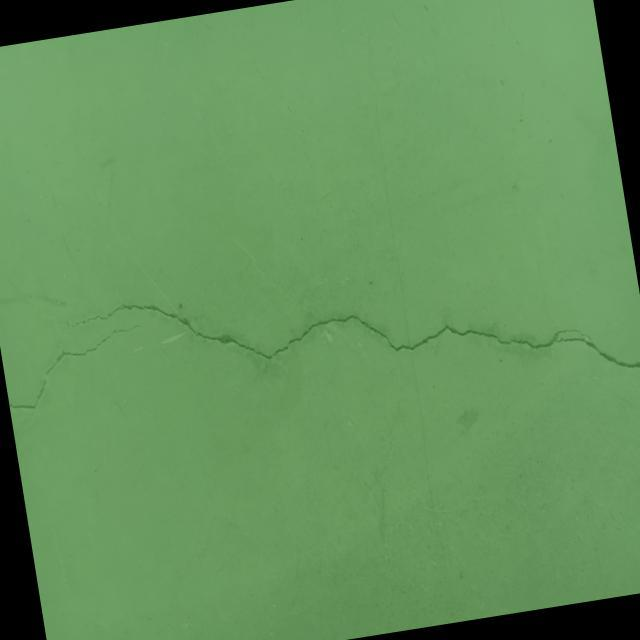crack: (65, 223, 640, 456), (0, 325, 151, 414)
